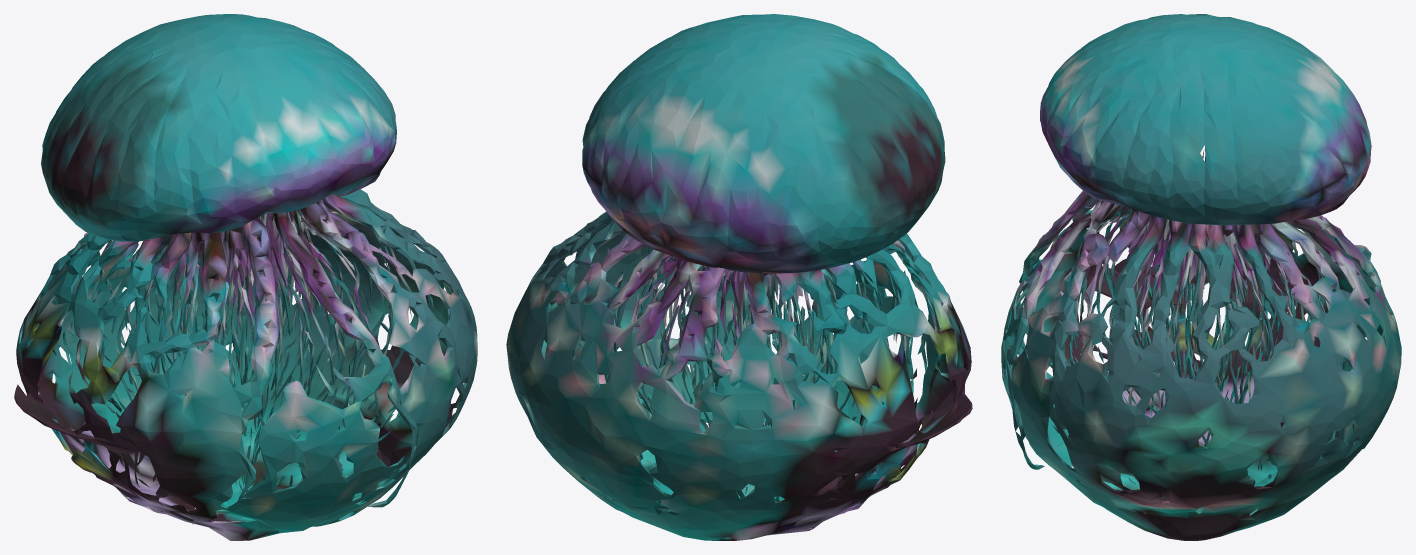
File: seaDragon.glb
3 views of the same model, side by side, from view 1: azimuth 30°, elevation 25°; view 2: azimuth 150°, elevation 25°; view 3: azimuth 270°, elevation 25° (orthographic). The views are drawn at different scales.
Parts seen in each view (by area): view 1: world; view 2: world; view 3: world.
Part boxes in pixels (x1,y1,x2,y2): world: (14, 14, 477, 540); world: (506, 14, 972, 540); world: (1001, 14, 1401, 540).
Size of the model in its own units: 0.9429 by 1 by 0.812.
